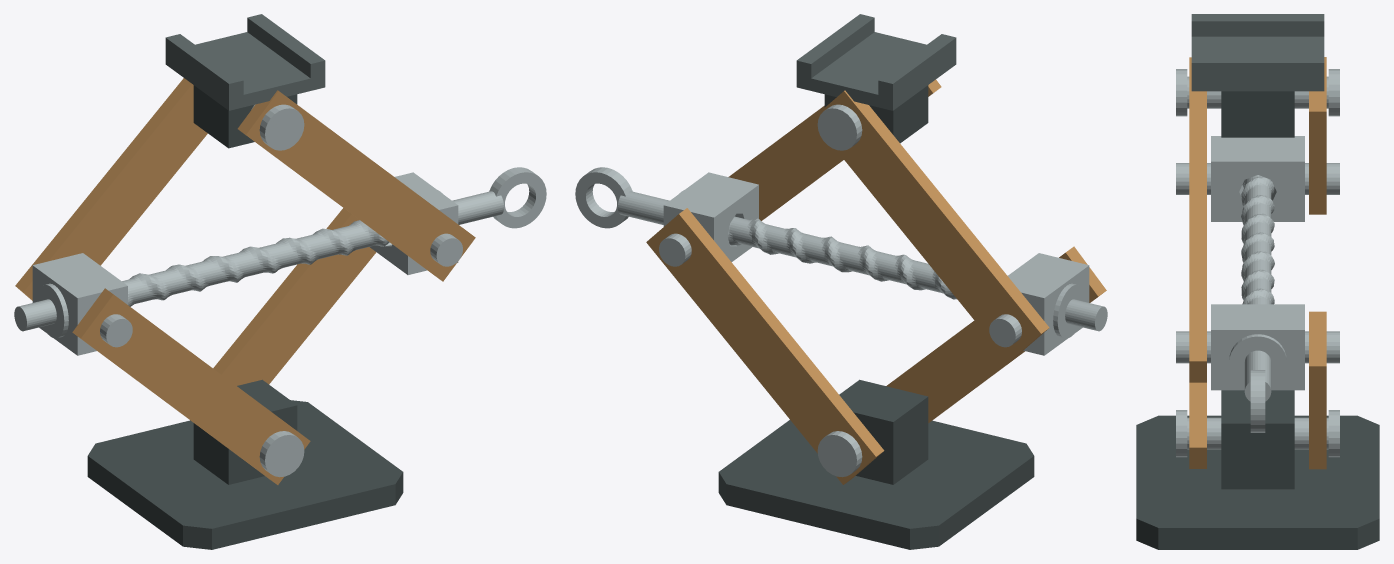
3 renders of one model, left to right at view 1: azimuth 30°, elevation 25°; view 2: azimuth 150°, elevation 25°; view 3: azimuth 270°, elevation 25°, orthographic. The views are drawn at different scales.
Visible parts, largest first — view 1: WholeChamferedGroundFoot, WholeLowerLeftTwoBoreArm, WholeUpperRightTwoBoreArm, WholeUpperLeftTwoBoreArm, WholeHorizontalHelicalReliefScrew, WholeEmptyRecessedSaddle, WholeLowerRightTwoBoreArm, WholeLeftBoredScrewTrunnion, WholeLowerBoredPivotMount, WholeUpperBoredPivotMount, WholeEndTurningEye, WholeRightBoredScrewTrunnion (+4 smaller); view 2: WholeChamferedGroundFoot, WholeLowerRightTwoBoreArm, WholeUpperLeftTwoBoreArm, WholeEmptyRecessedSaddle, WholeHorizontalHelicalReliefScrew, WholeLowerLeftTwoBoreArm, WholeLowerBoredPivotMount, WholeUpperRightTwoBoreArm, WholeRightBoredScrewTrunnion, WholeLeftBoredScrewTrunnion, WholeEndTurningEye, WholeUpperBoredPivotMount (+4 smaller); view 3: WholeChamferedGroundFoot, WholeEmptyRecessedSaddle, WholeLowerBoredPivotMount, WholeLeftBoredScrewTrunnion, WholeHorizontalHelicalReliefScrew, WholeRightBoredScrewTrunnion, WholeUpperRightTwoBoreArm, WholeUpperBoredPivotMount, WholeLowerRightTwoBoreArm, WholeUpperLeftTwoBoreArm, WholeLowerRetainedPivot, WholeUpperRetainedPivot (+6 smaller).
Part boxes in pixels (x1,y1,x2,y2): WholeChamferedGroundFoot: [87, 400, 403, 549]; WholeLowerLeftTwoBoreArm: [72, 288, 310, 484]; WholeUpperRightTwoBoreArm: [237, 90, 475, 281]; WholeUpperLeftTwoBoreArm: [15, 78, 207, 300]; WholeHorizontalHelicalReliefScrew: [14, 190, 503, 338]; WholeEmptyRecessedSaddle: [165, 14, 325, 110]; WholeLowerRightTwoBoreArm: [213, 208, 376, 385]; WholeLeftBoredScrewTrunnion: [32, 253, 127, 355]; WholeLowerBoredPivotMount: [193, 379, 297, 484]; WholeUpperBoredPivotMount: [193, 85, 297, 148]; WholeEndTurningEye: [489, 167, 546, 228]; WholeRightBoredScrewTrunnion: [370, 172, 458, 274]; WholeChamferedGroundFoot: [718, 420, 1034, 549]; WholeLowerRightTwoBoreArm: [646, 208, 884, 484]; WholeUpperLeftTwoBoreArm: [811, 90, 1049, 361]; WholeEmptyRecessedSaddle: [796, 14, 956, 110]; WholeHorizontalHelicalReliefScrew: [618, 190, 1107, 338]; WholeLowerLeftTwoBoreArm: [886, 246, 1106, 422]; WholeLowerBoredPivotMount: [839, 379, 928, 484]; WholeUpperRightTwoBoreArm: [728, 79, 941, 220]; WholeRightBoredScrewTrunnion: [663, 172, 758, 261]; WholeLeftBoredScrewTrunnion: [1008, 253, 1089, 355]; WholeEndTurningEye: [575, 167, 632, 228]; WholeUpperBoredPivotMount: [824, 85, 928, 143]; WholeChamferedGroundFoot: [1136, 415, 1379, 549]; WholeEmptyRecessedSaddle: [1191, 14, 1324, 91]; WholeLowerBoredPivotMount: [1221, 390, 1294, 489]; WholeLeftBoredScrewTrunnion: [1211, 136, 1304, 221]; WholeHorizontalHelicalReliefScrew: [1229, 175, 1286, 401]; WholeRightBoredScrewTrunnion: [1211, 304, 1304, 390]; WholeUpperRightTwoBoreArm: [1189, 57, 1206, 382]; WholeUpperBoredPivotMount: [1221, 91, 1294, 137]; WholeLowerRightTwoBoreArm: [1309, 311, 1326, 469]; WholeUpperLeftTwoBoreArm: [1309, 57, 1326, 214]; WholeLowerRetainedPivot: [1176, 410, 1339, 457]; WholeUpperRetainedPivot: [1176, 69, 1339, 116].
Bounding box in the file's own units: 1.14 × 0.908 × 0.44.
